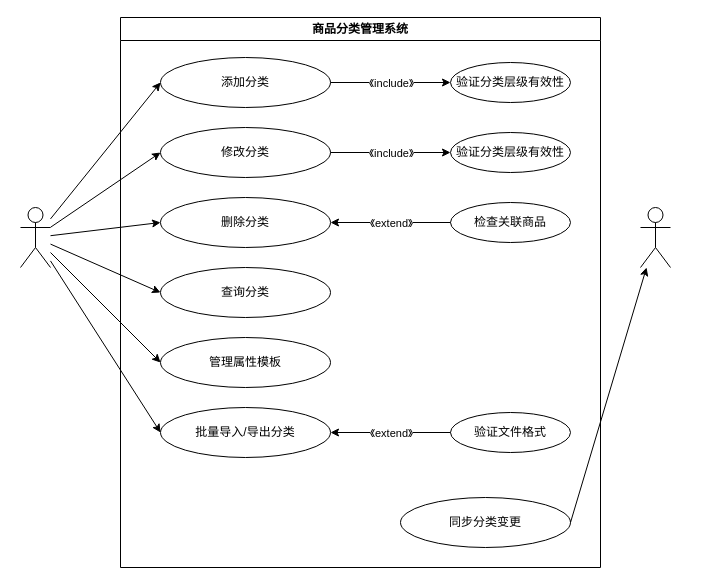
The diagram is 720 pixels wide and 585 high, and some of its shapes have lost their labels. Each missing label, with the centre of its shape:
商品信息管理系统: the point at 655,237
管理员: the point at 35,237
